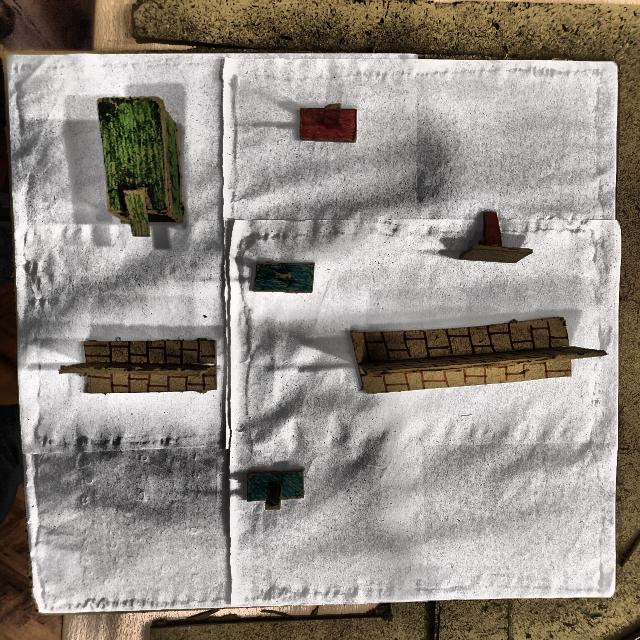Dead soldier -enemy-: (456, 207, 534, 266)
Tank: (95, 97, 188, 237)
Wall: (347, 316, 604, 397), (59, 338, 222, 396)
enemy: (292, 103, 367, 150)
friend: (231, 467, 316, 516), (251, 260, 319, 297)
